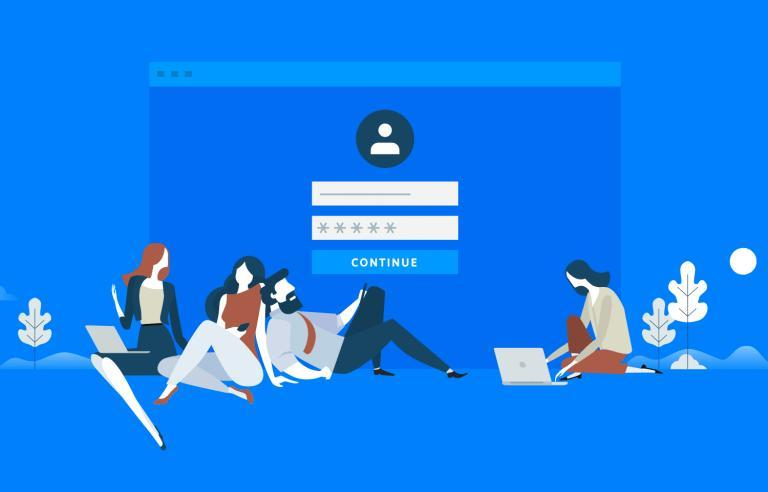button: (312, 250, 460, 276)
input: (313, 216, 459, 242), (313, 182, 460, 207)
